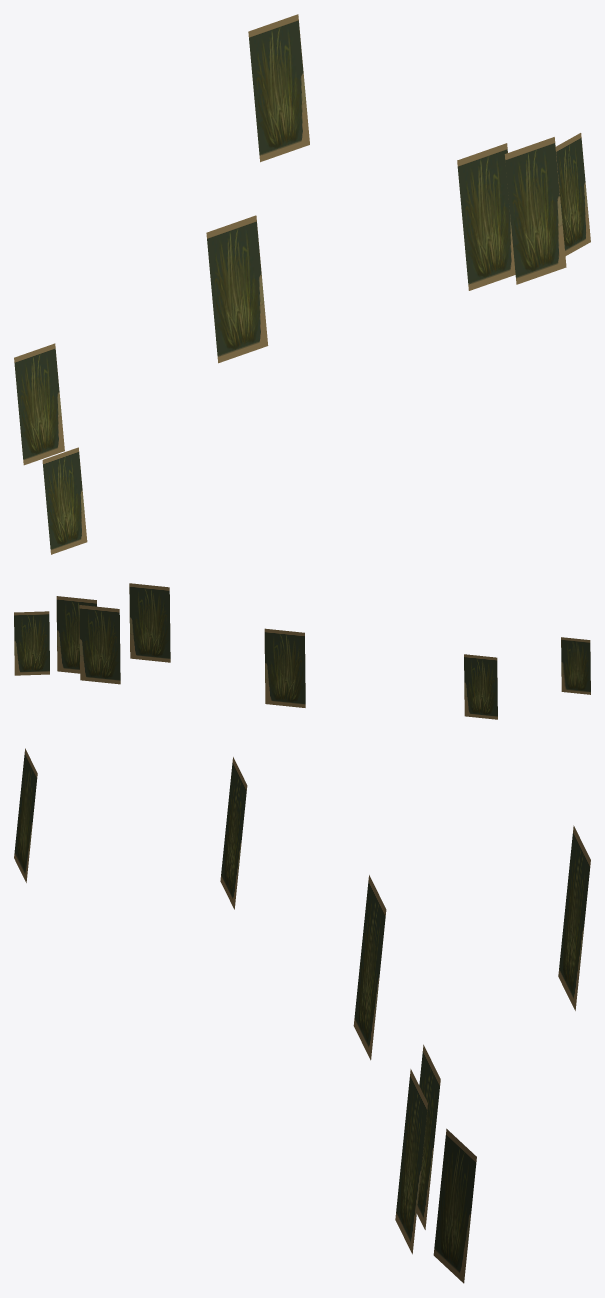
Rendered from object_grass_polys01.fbx.
3 renders of one model, top to bottom at view 1: azimuth 30°, elevation 25°; view 2: azimuth 150°, elevation 25°; view 3: azimuth 270°, elevation 25°, orthographic. The views are drawn at different scales.
Visible parts, largest first — view 1: obj0.058; view 2: obj0.058; view 3: obj0.058.
Part boxes in pixels (bbox=[...]): obj0.058: bbox=[14, 14, 590, 554]; obj0.058: bbox=[14, 583, 590, 719]; obj0.058: bbox=[14, 748, 590, 1283].
Size of the model in its own units: 17.39 by 5.61 by 10.1.
